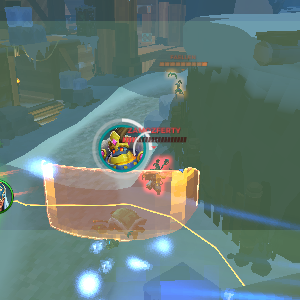model: (141, 149, 169, 198), (172, 78, 185, 100)
